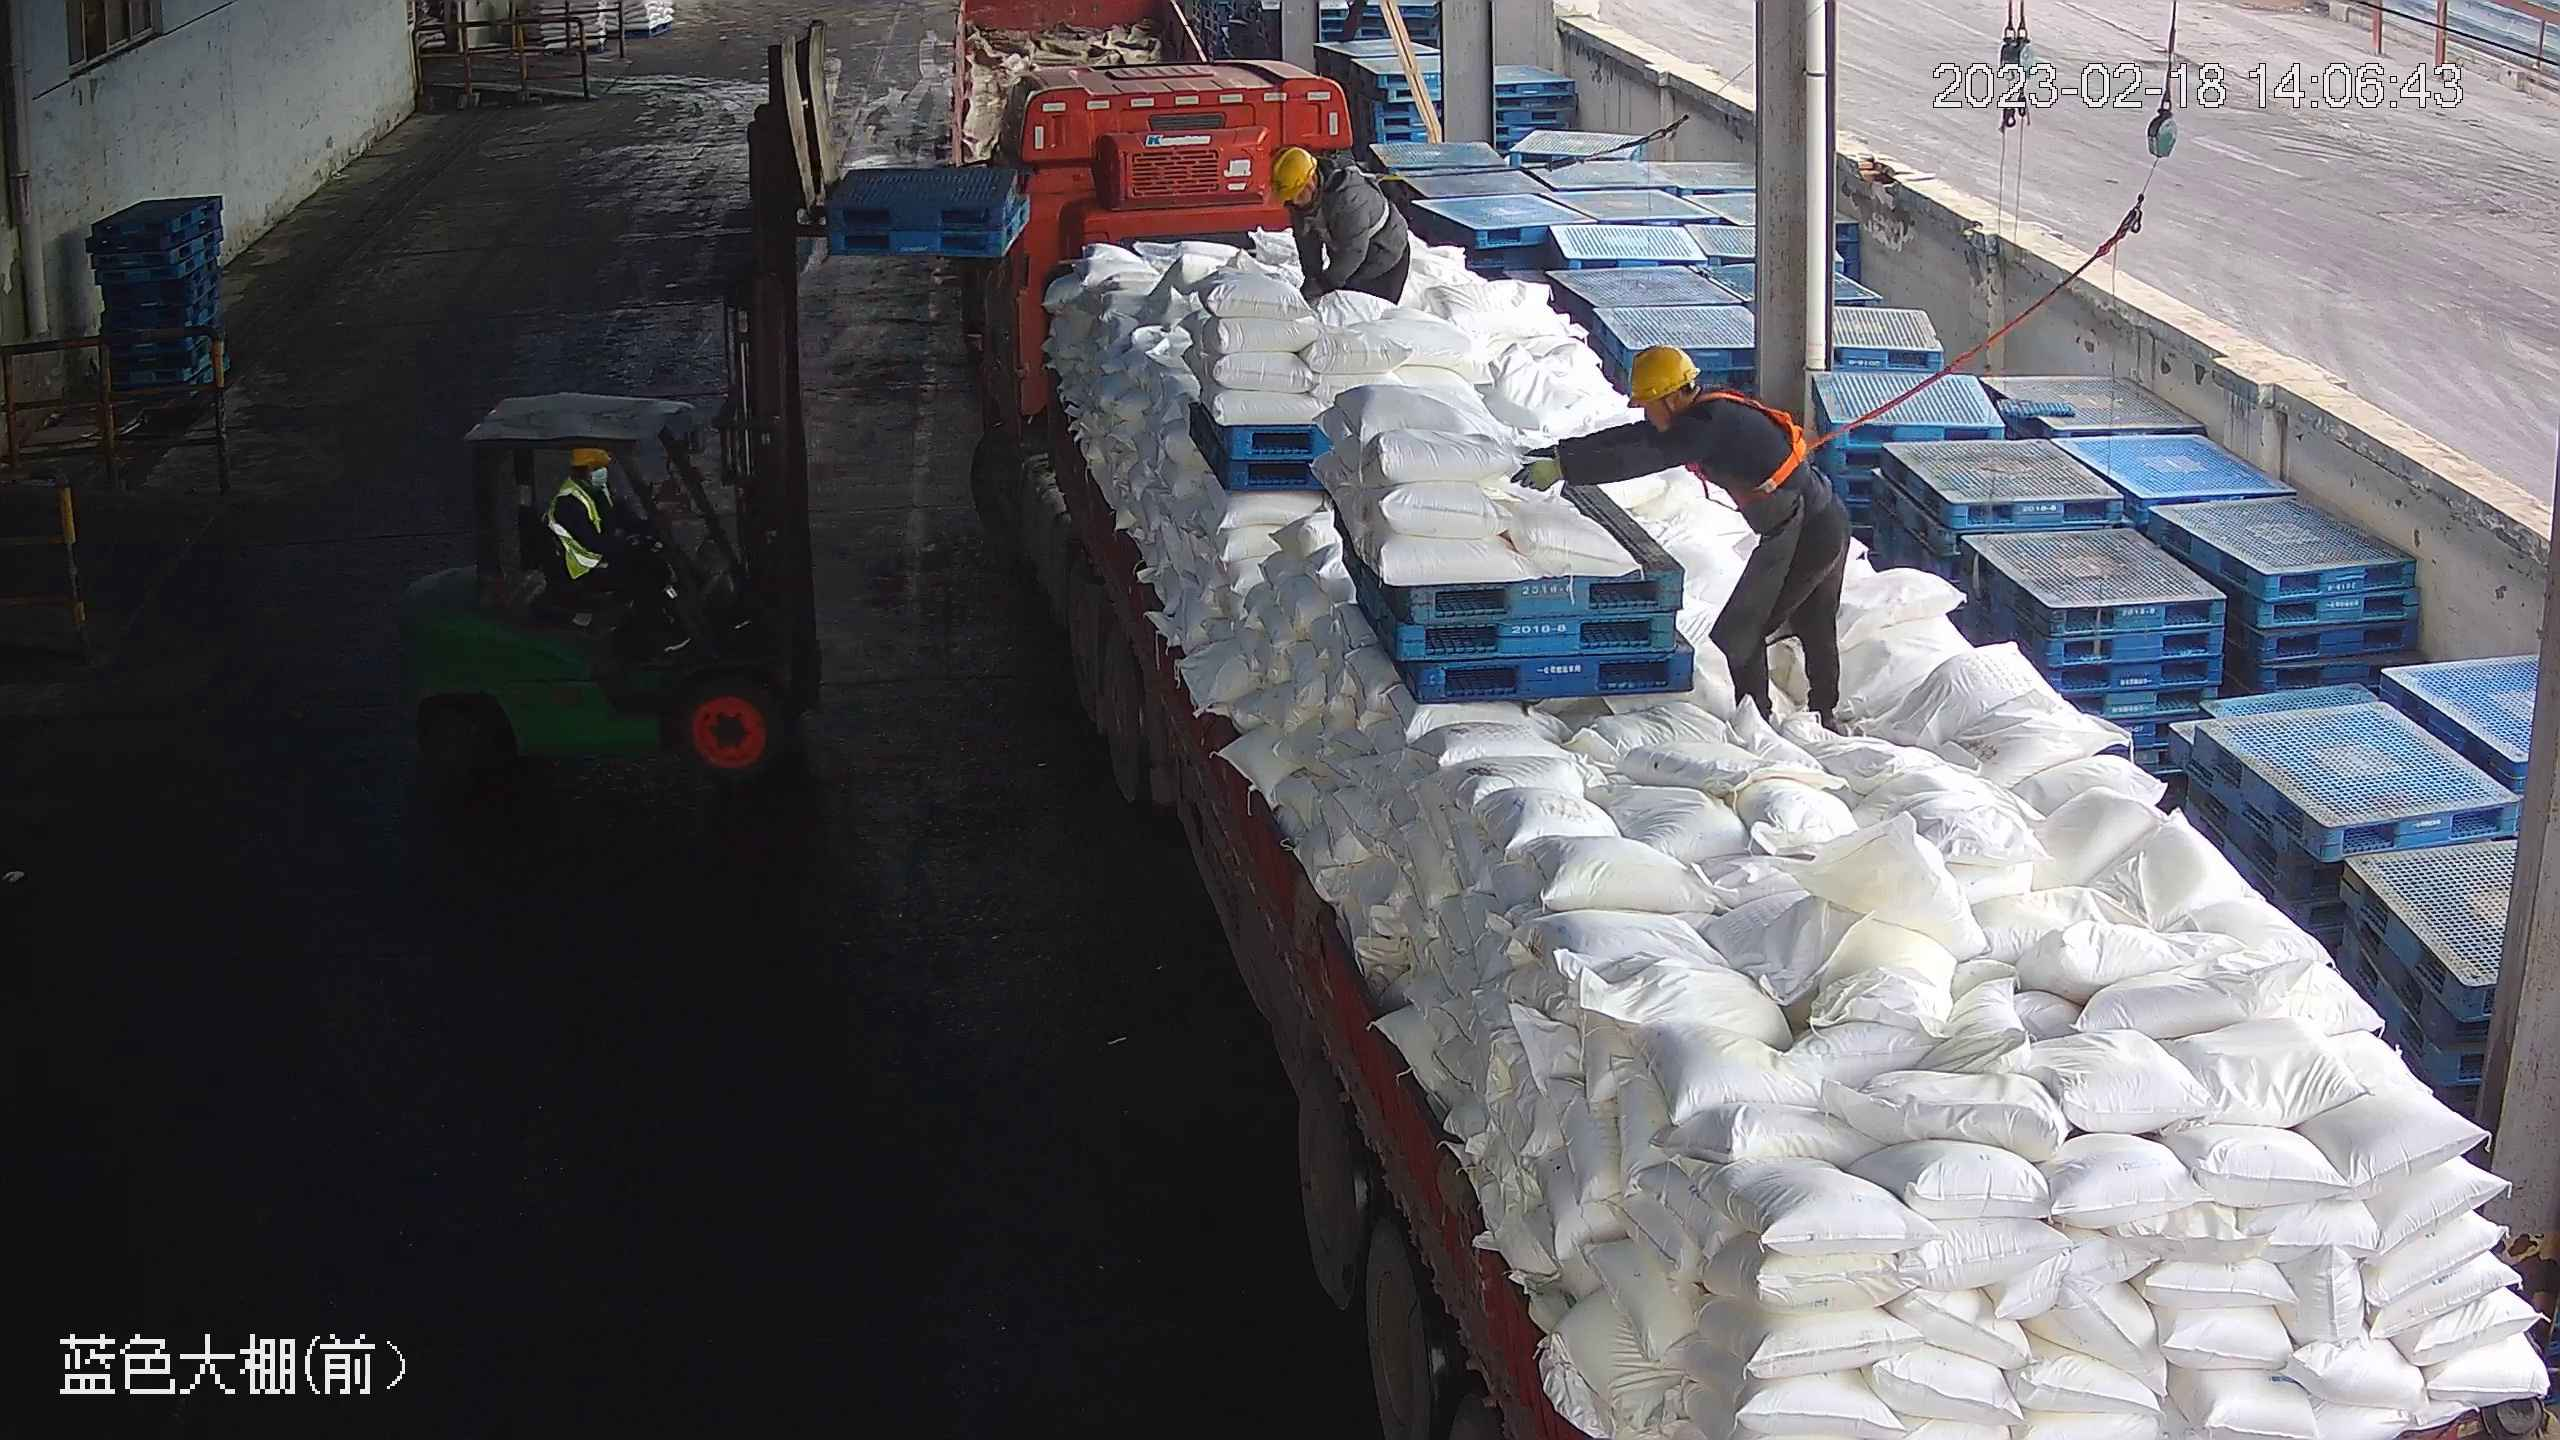belt: (1694, 384, 1827, 504), (1345, 154, 1411, 238)
head: (1603, 346, 1754, 482), (1271, 141, 1373, 249), (554, 443, 632, 539)
helmet: (1626, 342, 1703, 407), (1270, 141, 1317, 203), (572, 446, 615, 468)
people: (1512, 344, 1856, 730), (544, 443, 694, 660), (1270, 142, 1412, 306)
truck: (954, 56, 2560, 1440)
